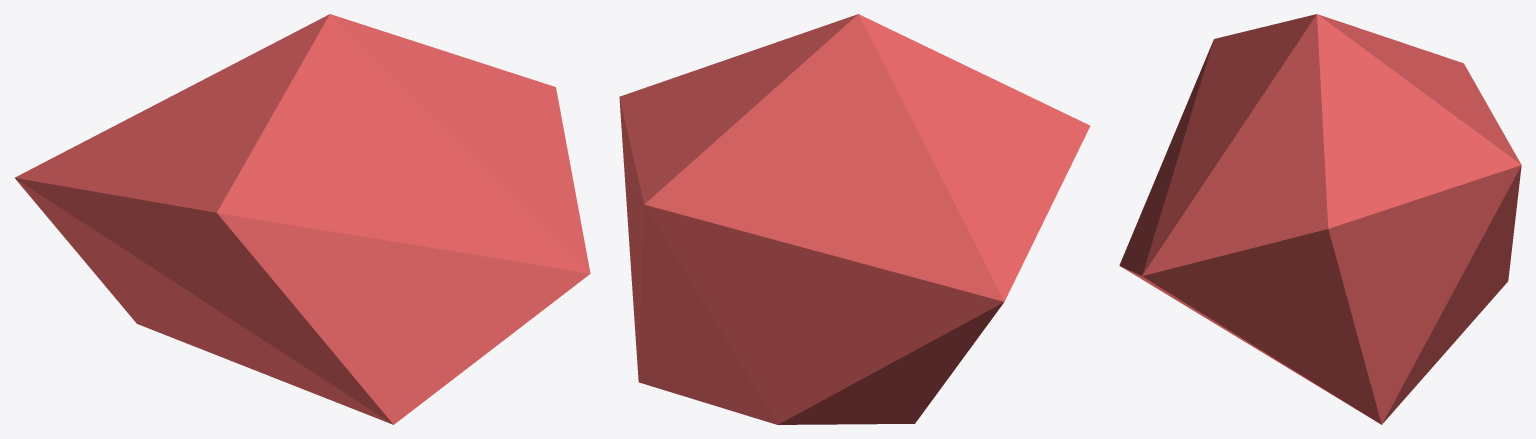
Rendered from CAILLOU.fbx.
3 renders of one model, left to right at view 1: azimuth 30°, elevation 25°; view 2: azimuth 150°, elevation 25°; view 3: azimuth 270°, elevation 25°, orthographic. The views are drawn at different scales.
Parts seen in each view (by area): view 1: GeoSphere006; view 2: GeoSphere006; view 3: GeoSphere006.
Boxes of the visible parts, bbox=[...] form: GeoSphere006: bbox=[14, 14, 590, 424]; GeoSphere006: bbox=[619, 14, 1090, 424]; GeoSphere006: bbox=[1119, 14, 1521, 424].
Size of the model in its own units: 60.75 by 48.3 by 52.75.
